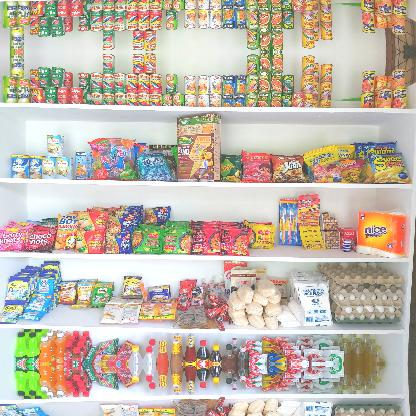Koko-Krunch: (178, 113, 221, 182)
